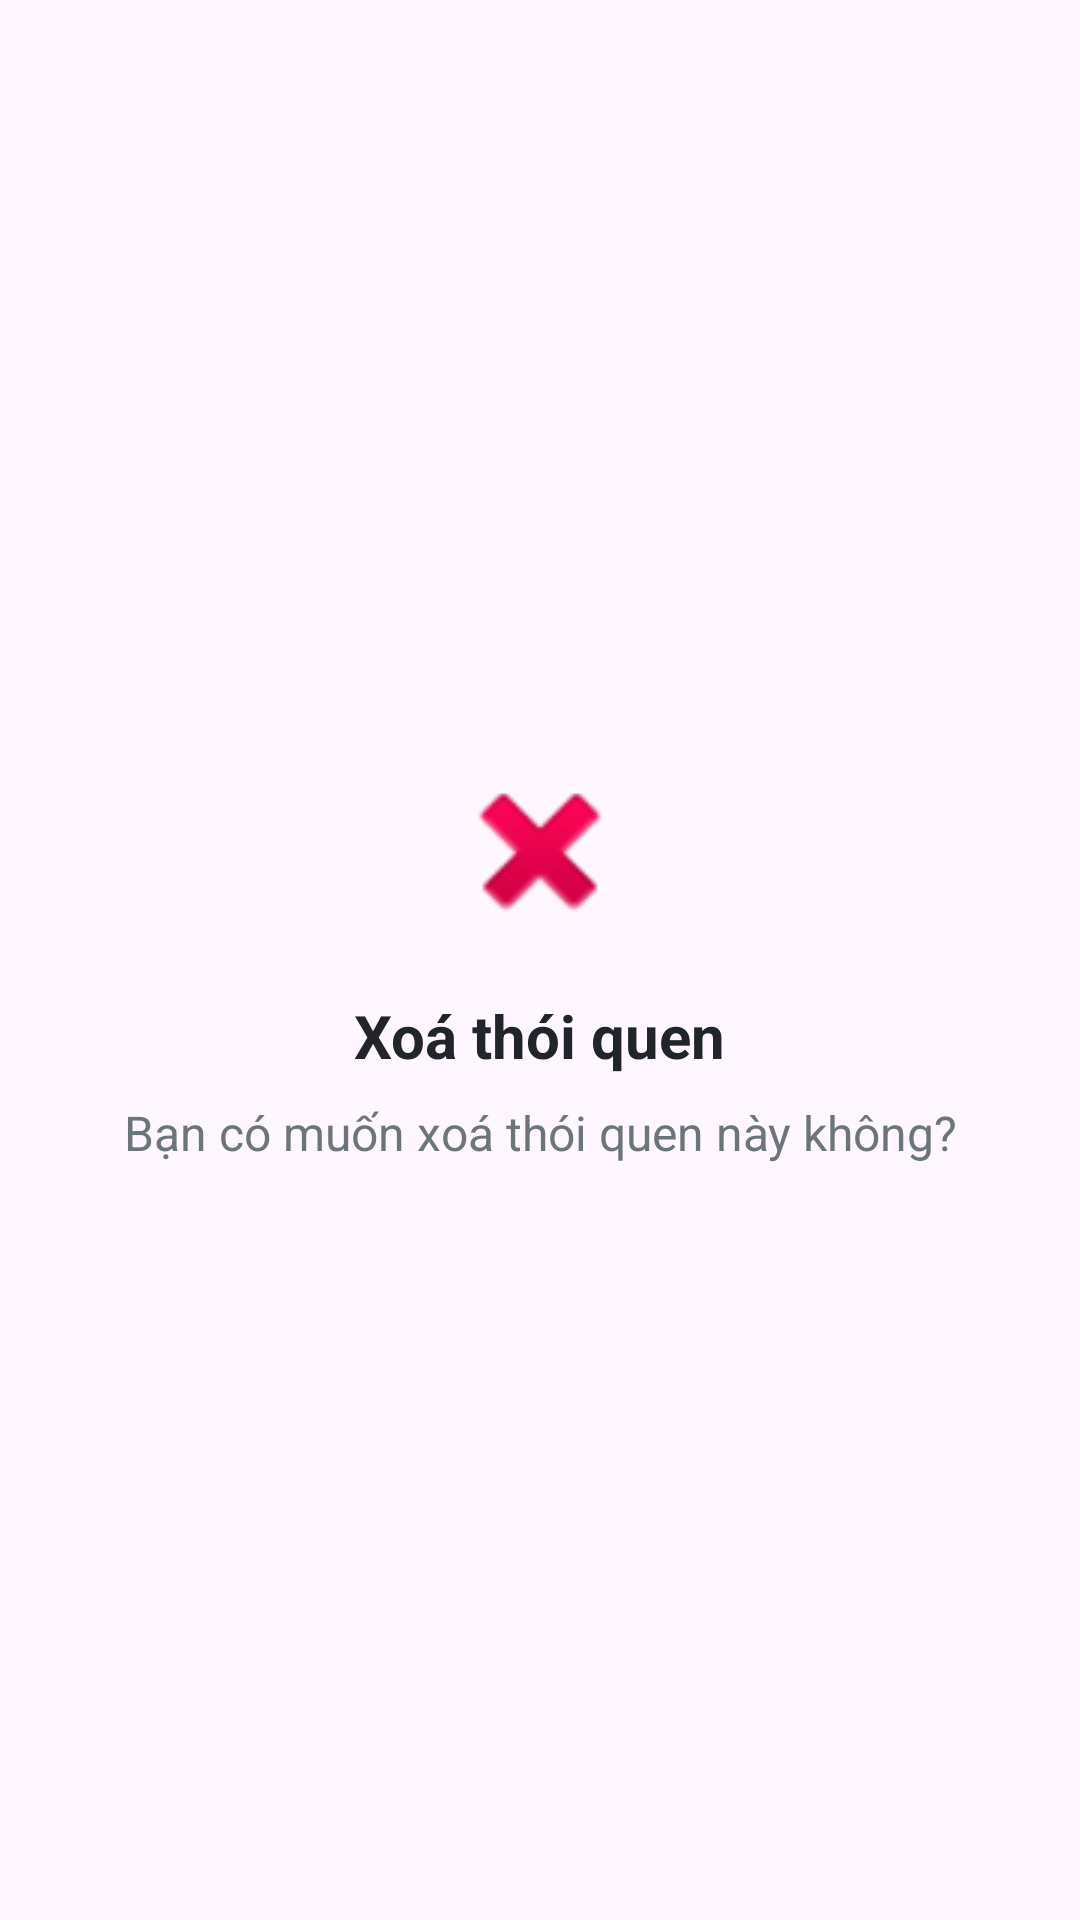

Icon bounding boxes for this 1080*1920 phone screenshot, format (x1, y1, x2, y2):
Delete Icon: (479, 793, 601, 911)
